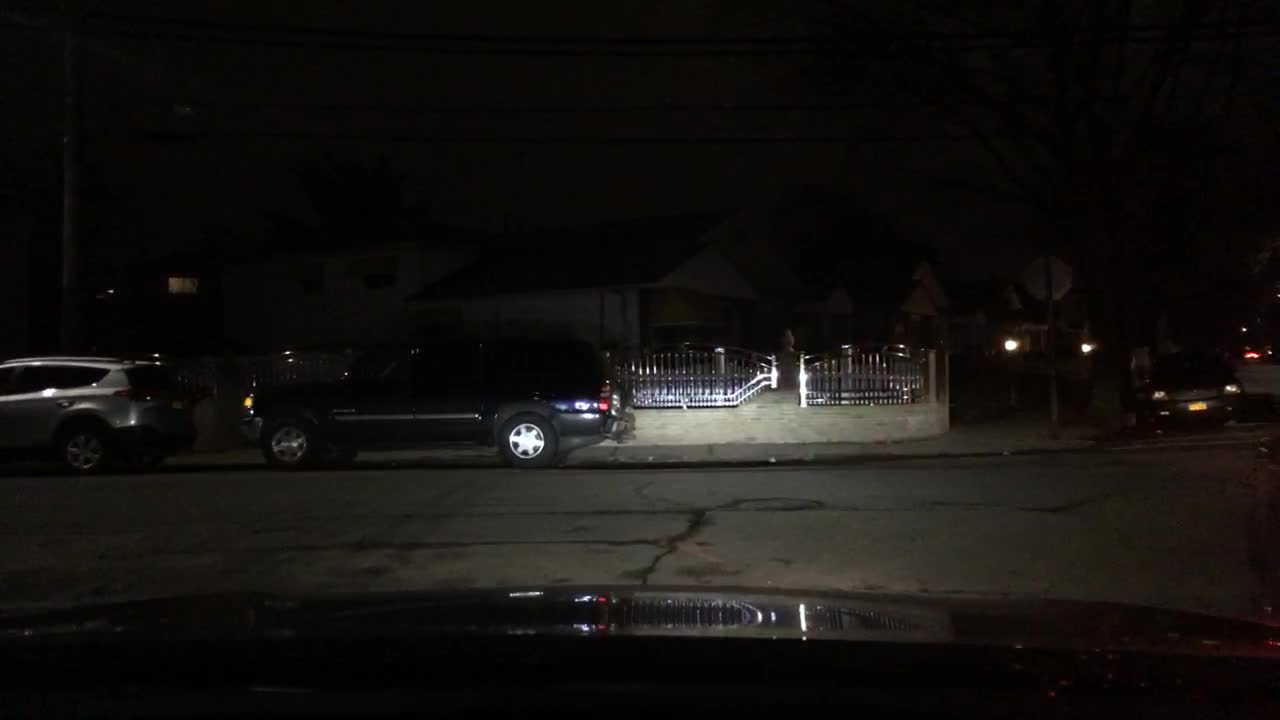car: (243, 327, 625, 471), (3, 357, 194, 475), (1138, 361, 1243, 429), (1245, 349, 1259, 361)
traffic sign: (1023, 255, 1068, 298), (170, 277, 198, 293)
